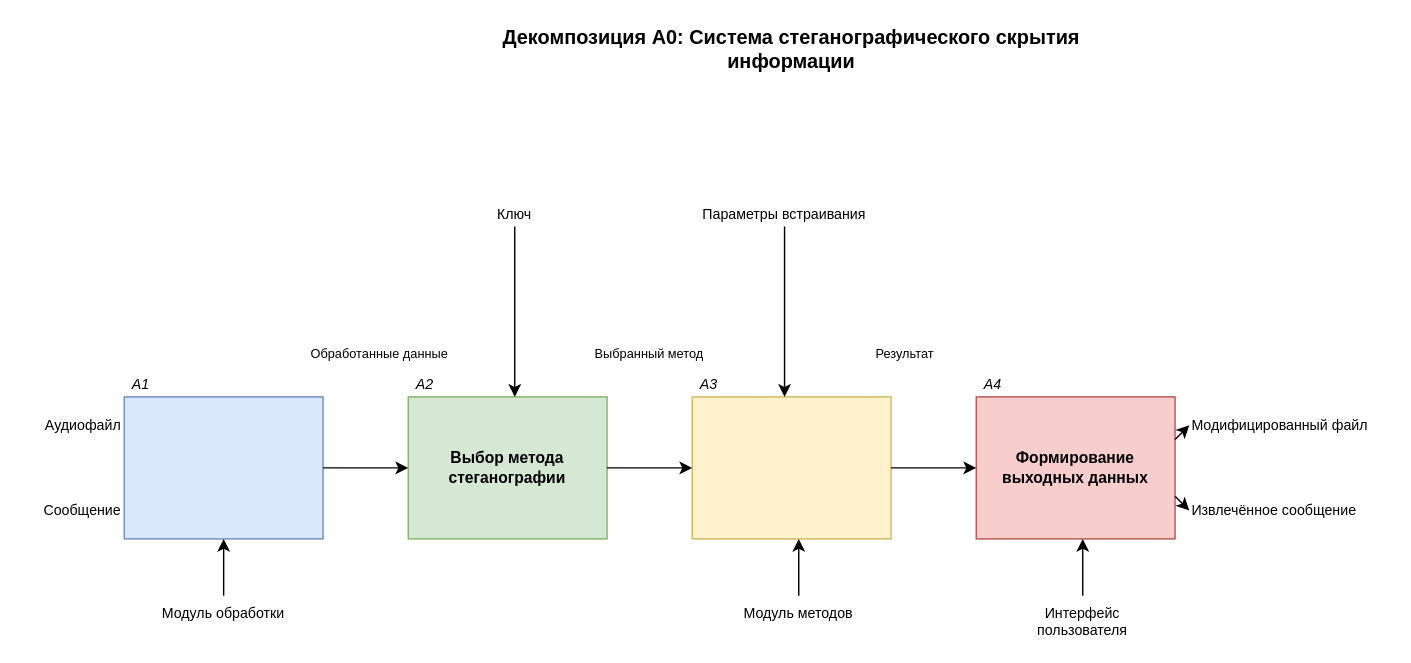
The diagram is 1411 pixels wide and 663 high, and some of its shapes have lost their labels. The centre of each missing label's shape, as x and y in pixels:
"Встраивание/ извлечение информации" belongs at point 791,467.
"Загрузка и предварительная обработка данных" belongs at point 223,467.
